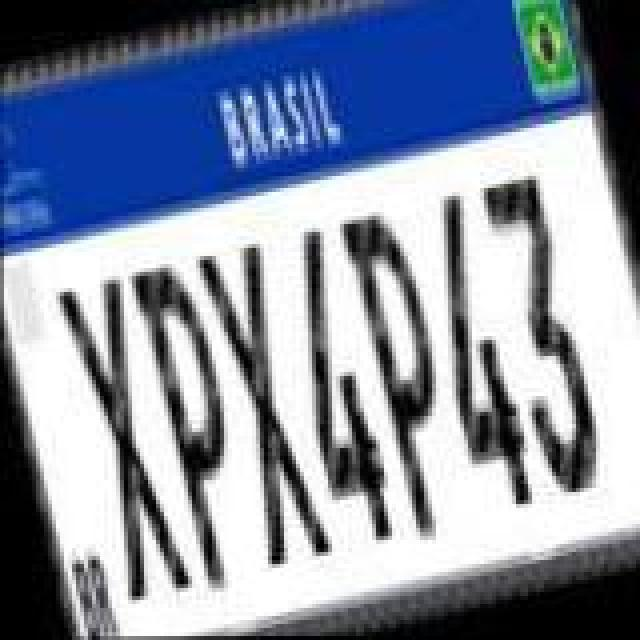3: (474, 166, 610, 502)
4: (268, 222, 400, 554), (408, 188, 540, 520)
P: (126, 252, 262, 592), (344, 210, 476, 542)
X: (52, 270, 192, 606), (196, 238, 336, 570)
